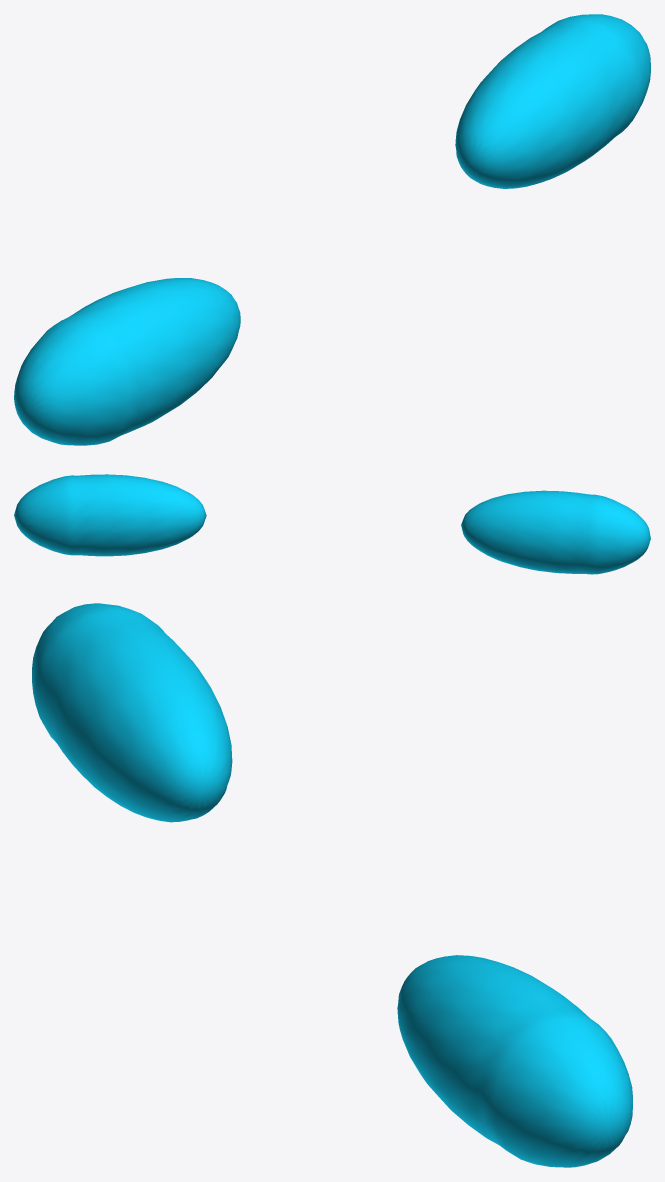
3 views of the same model, one above another, from view 1: azimuth 30°, elevation 25°; view 2: azimuth 150°, elevation 25°; view 3: azimuth 270°, elevation 25° (orthographic). The views are drawn at different scales.
Visible parts, largest first — view 1: eye_brow_001; view 2: eye_brow_001; view 3: eye_brow_001.
Boxes of the visible parts, x1,y1,x2,y2 form: eye_brow_001: (14, 14, 650, 445); eye_brow_001: (14, 474, 650, 574); eye_brow_001: (32, 603, 632, 1167).
Bounding box in the file's own units: 39.2 × 20.23 × 5.58.
